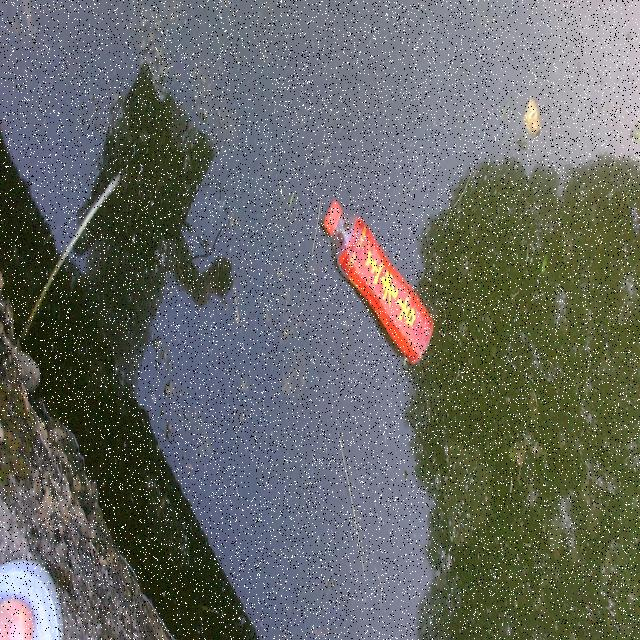Bottle: (318, 196, 436, 366)
